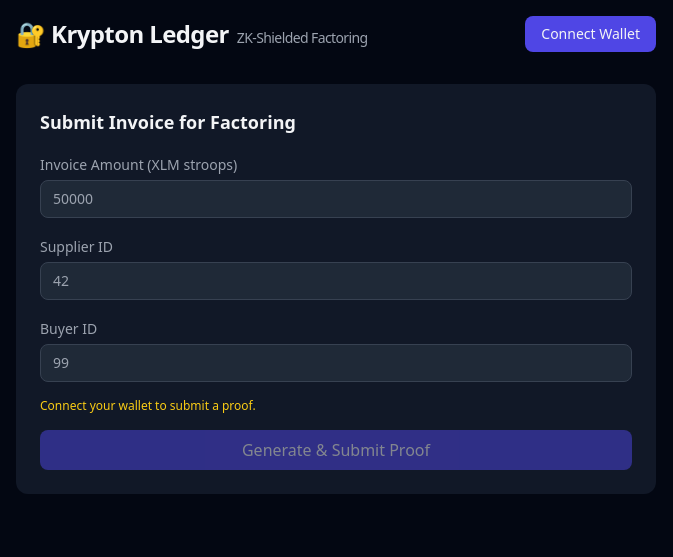
Test: DashboardPage › shows ephemeral warning banner after connecting without Freighter
Click the button "Connect Wallet" at (591, 34), box [525, 16, 656, 52]
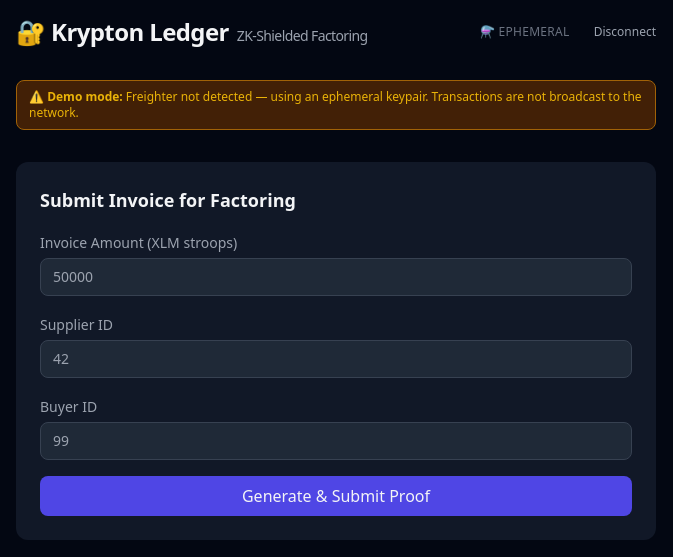
Expected: the button "Disconnect" is shown, [594, 24, 656, 40]
Expected: the element that starts with "Demo mode:" is shown, [16, 80, 656, 130]
Expected: the element that starts with "Demo mode:" shows "ephemeral", [29, 88, 642, 121]
